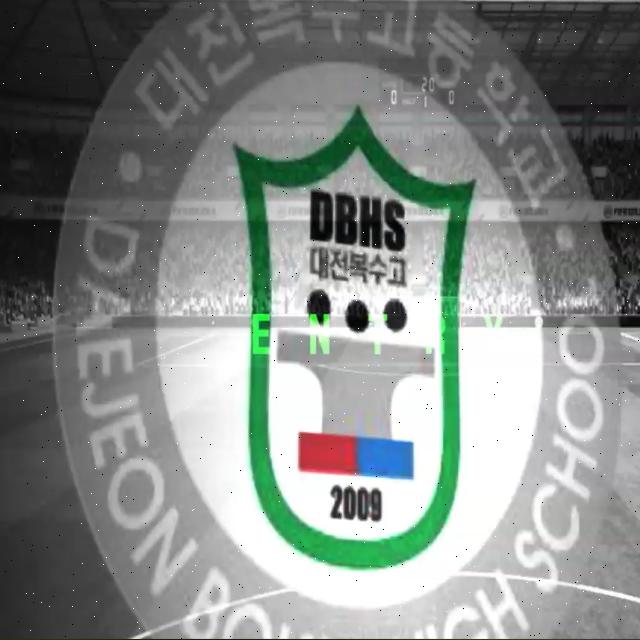logo: (39, 8, 625, 640)
